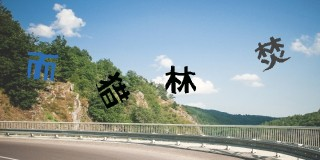林: (164, 64, 198, 93)
焚: (255, 36, 292, 72)
猎: (95, 72, 131, 109)
而: (25, 51, 58, 81)
